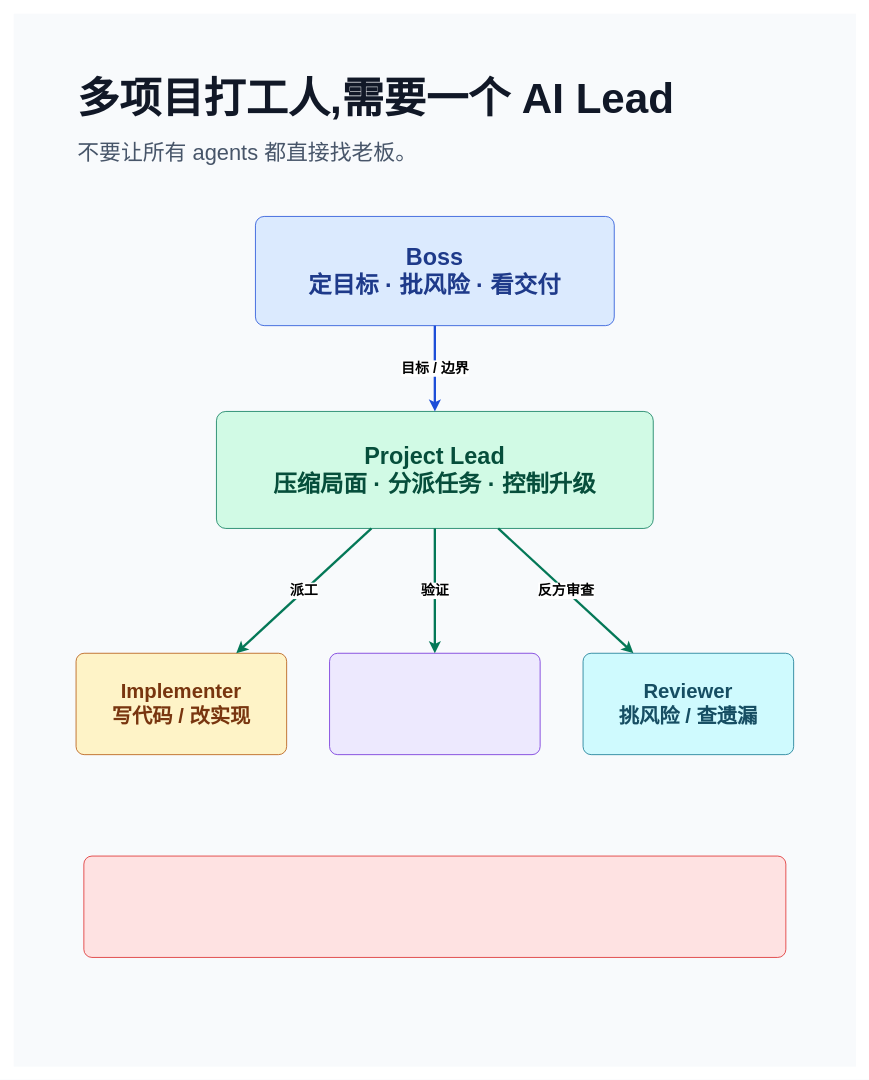
Some shapes in this 869 by 1080 pixel diagram are drawn without their labels. Here are the shapes that lost their labels. From the top down, the centre of each, then its label:
point 434,703: Tester 跑验证 / 找回归
point 434,906: 边界:Lead 可以组织和只读协调; 写文件 / shell / 发布风险仍走审批。
